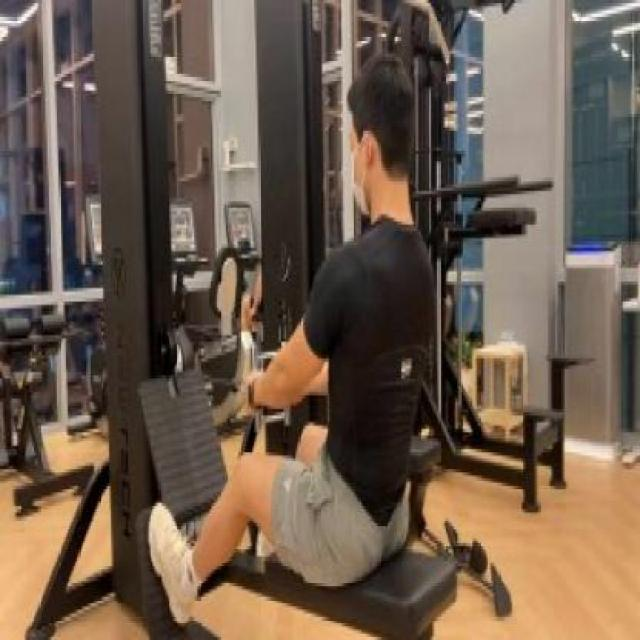Seated Cable Rows: (89, 0, 468, 640)
